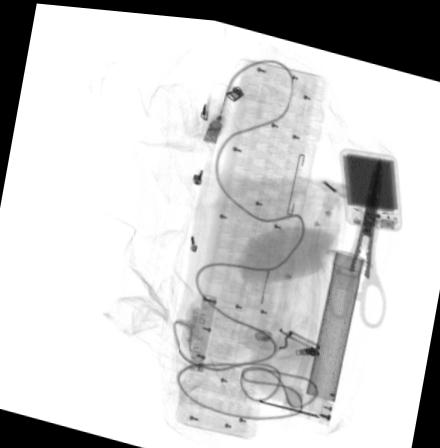Powerbank: (337, 139, 400, 223)
Scissors: (323, 148, 387, 322)
